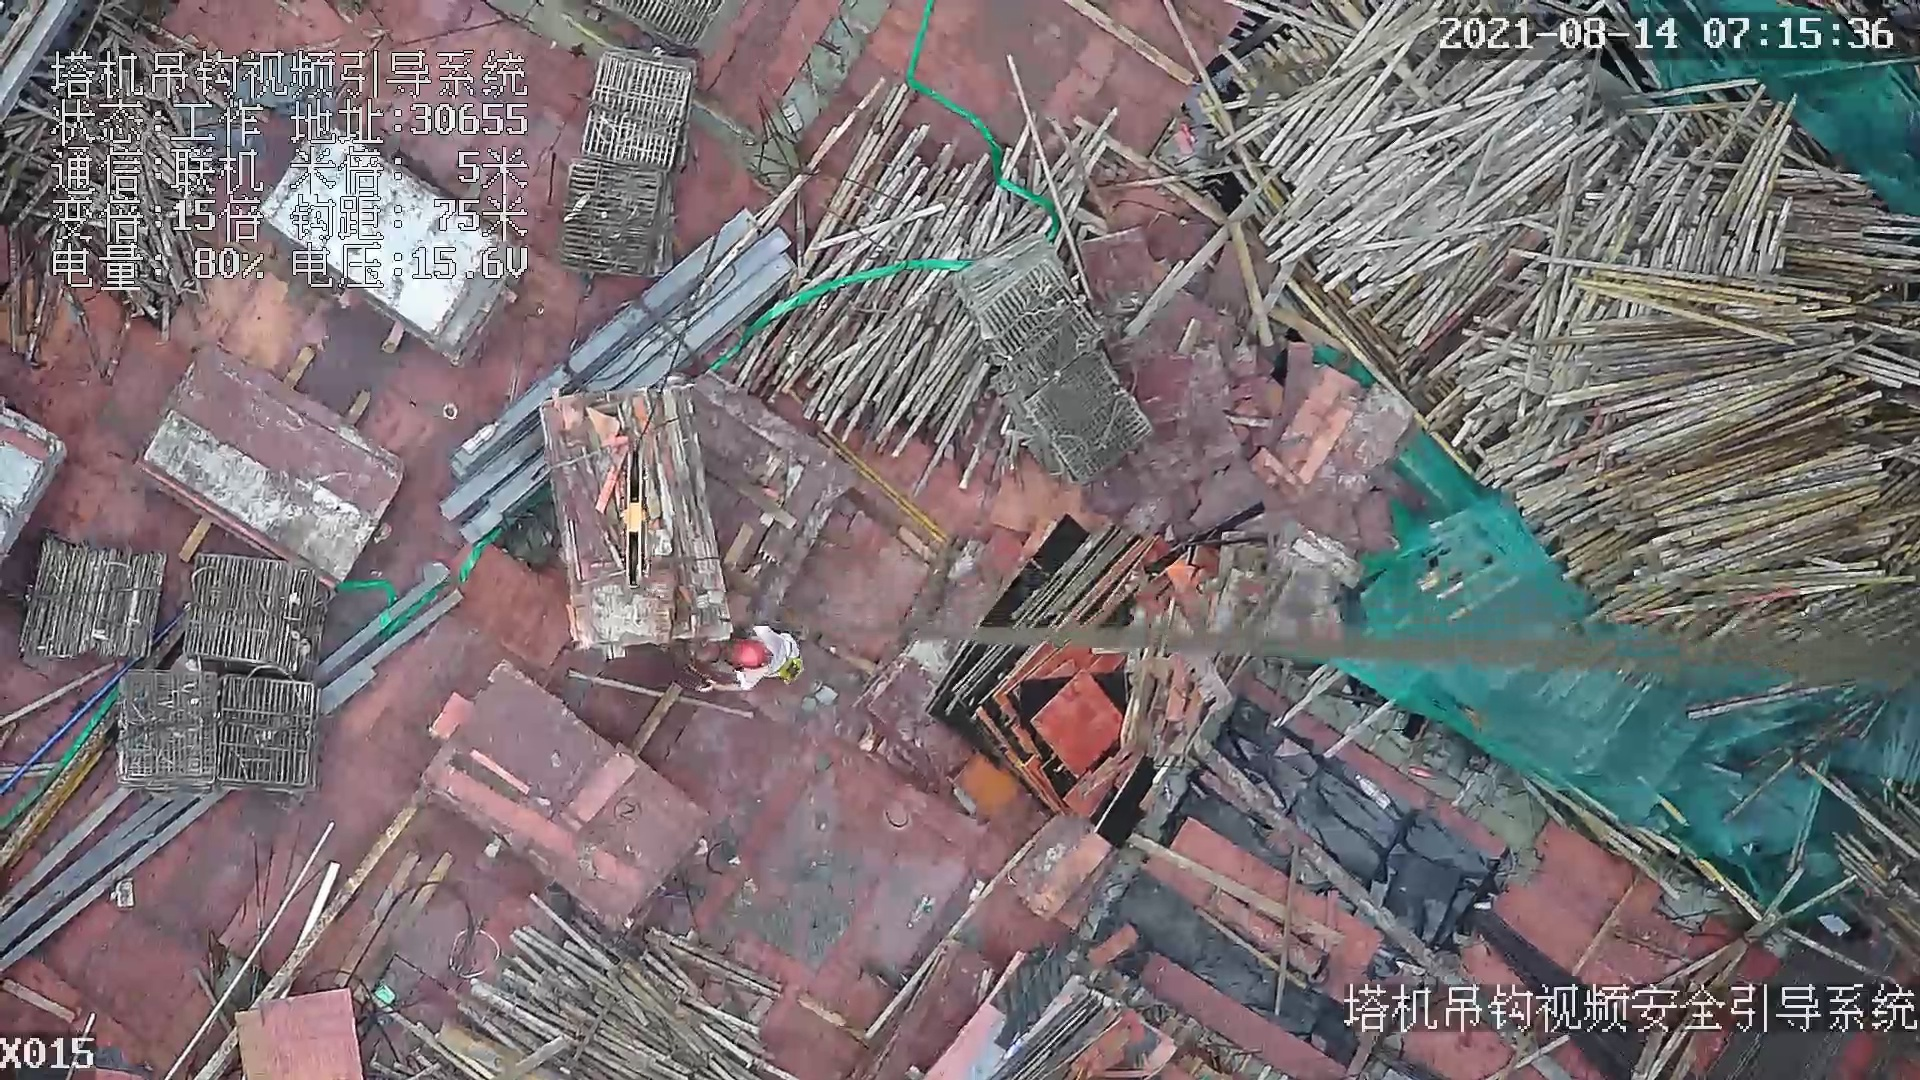helmet: (729, 634, 770, 669)
hook: (615, 445, 650, 587)
person: (688, 613, 805, 695)
